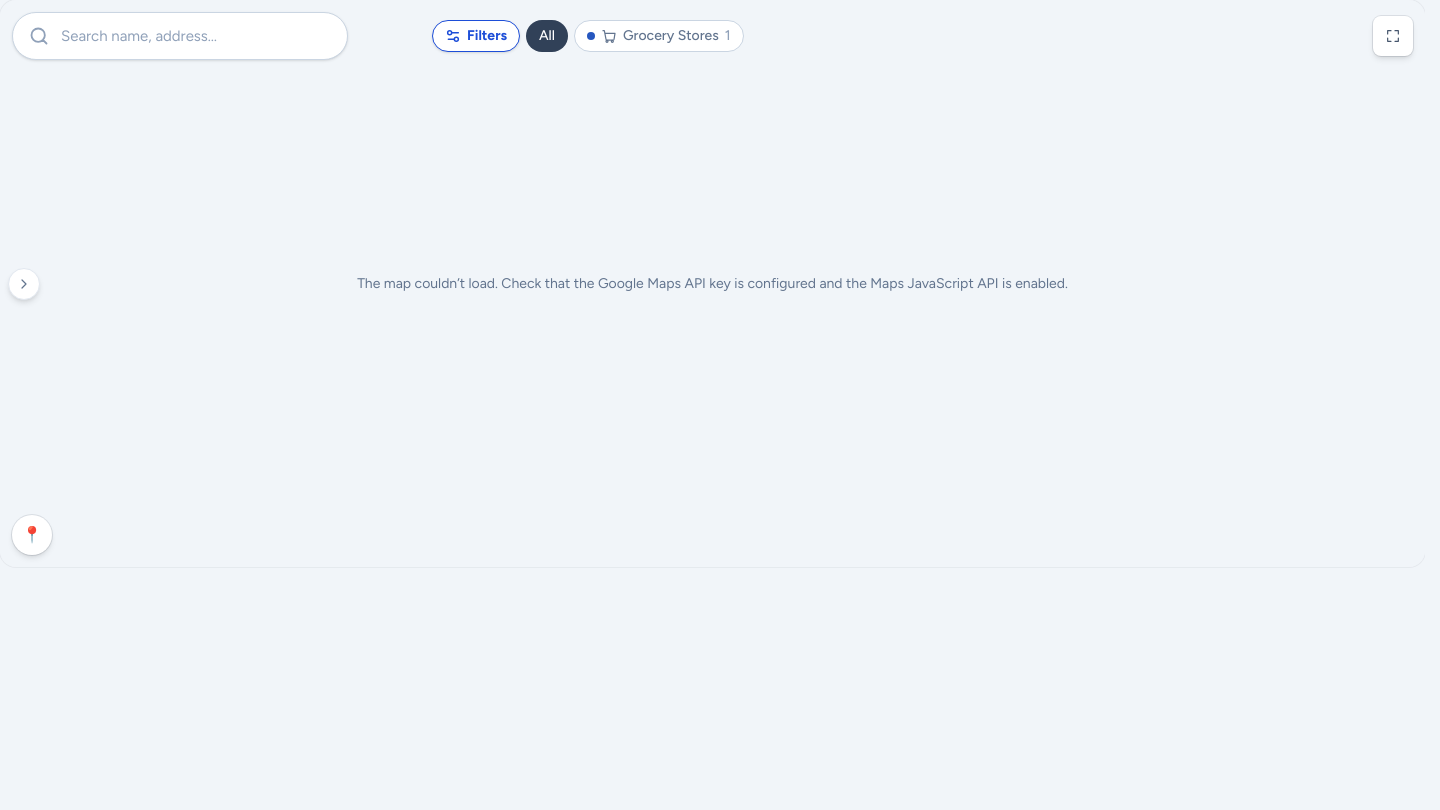
ResourceMapView — search autocomplete › offers "Open now" as a suggestion when the search box is focused and empty
The image size is (1440, 810).
What coordinates should you click on to do the following:
click the field with placeholder "Search name, address…"
I would click on:
 (190, 36)
Its box is x1=49 y1=25 x2=331 y2=47.
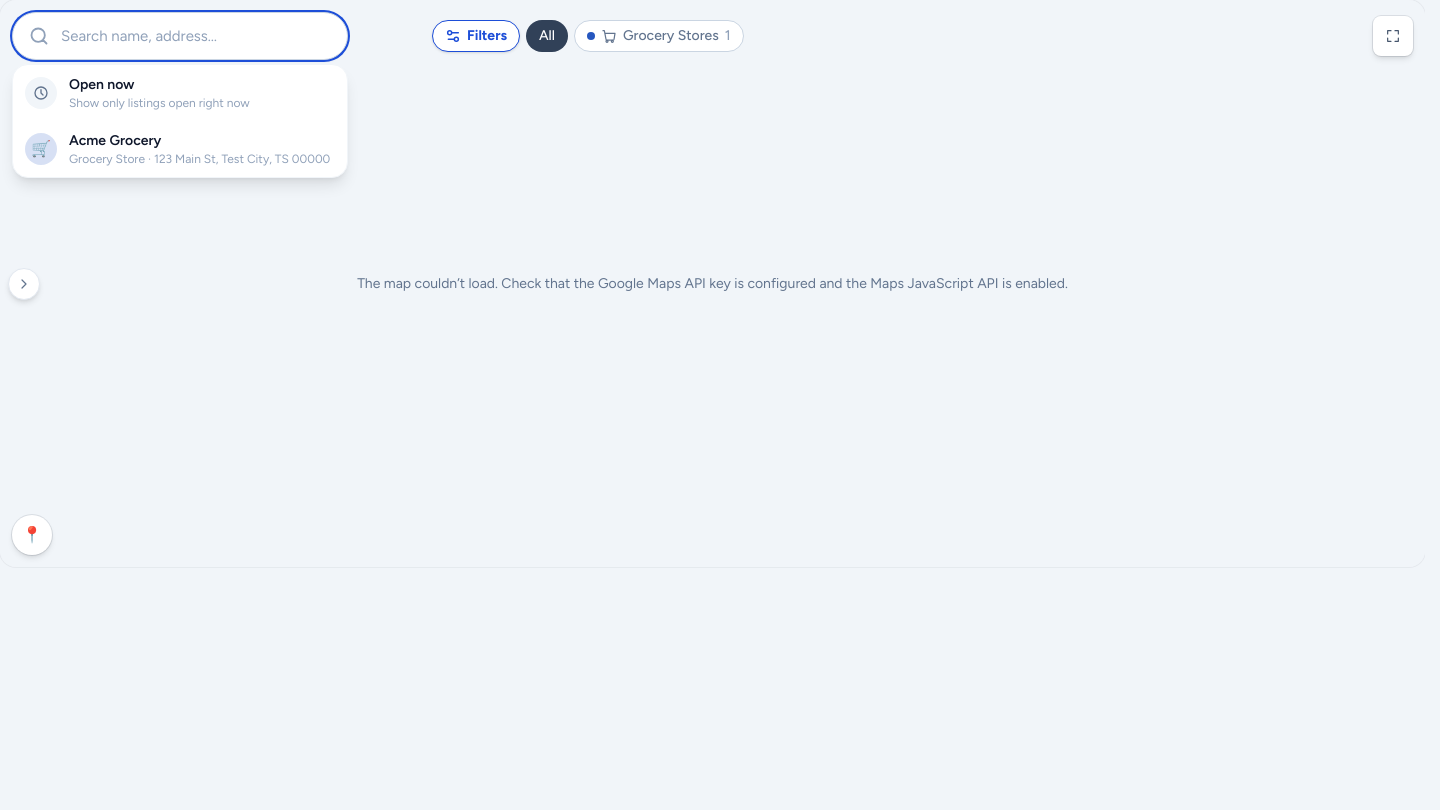
Check: the text "Open now" is shown, box x1=69 y1=76 x2=134 y2=93
Check: the text "Show only listings open right now" is shown, box x1=69 y1=96 x2=250 y2=110
